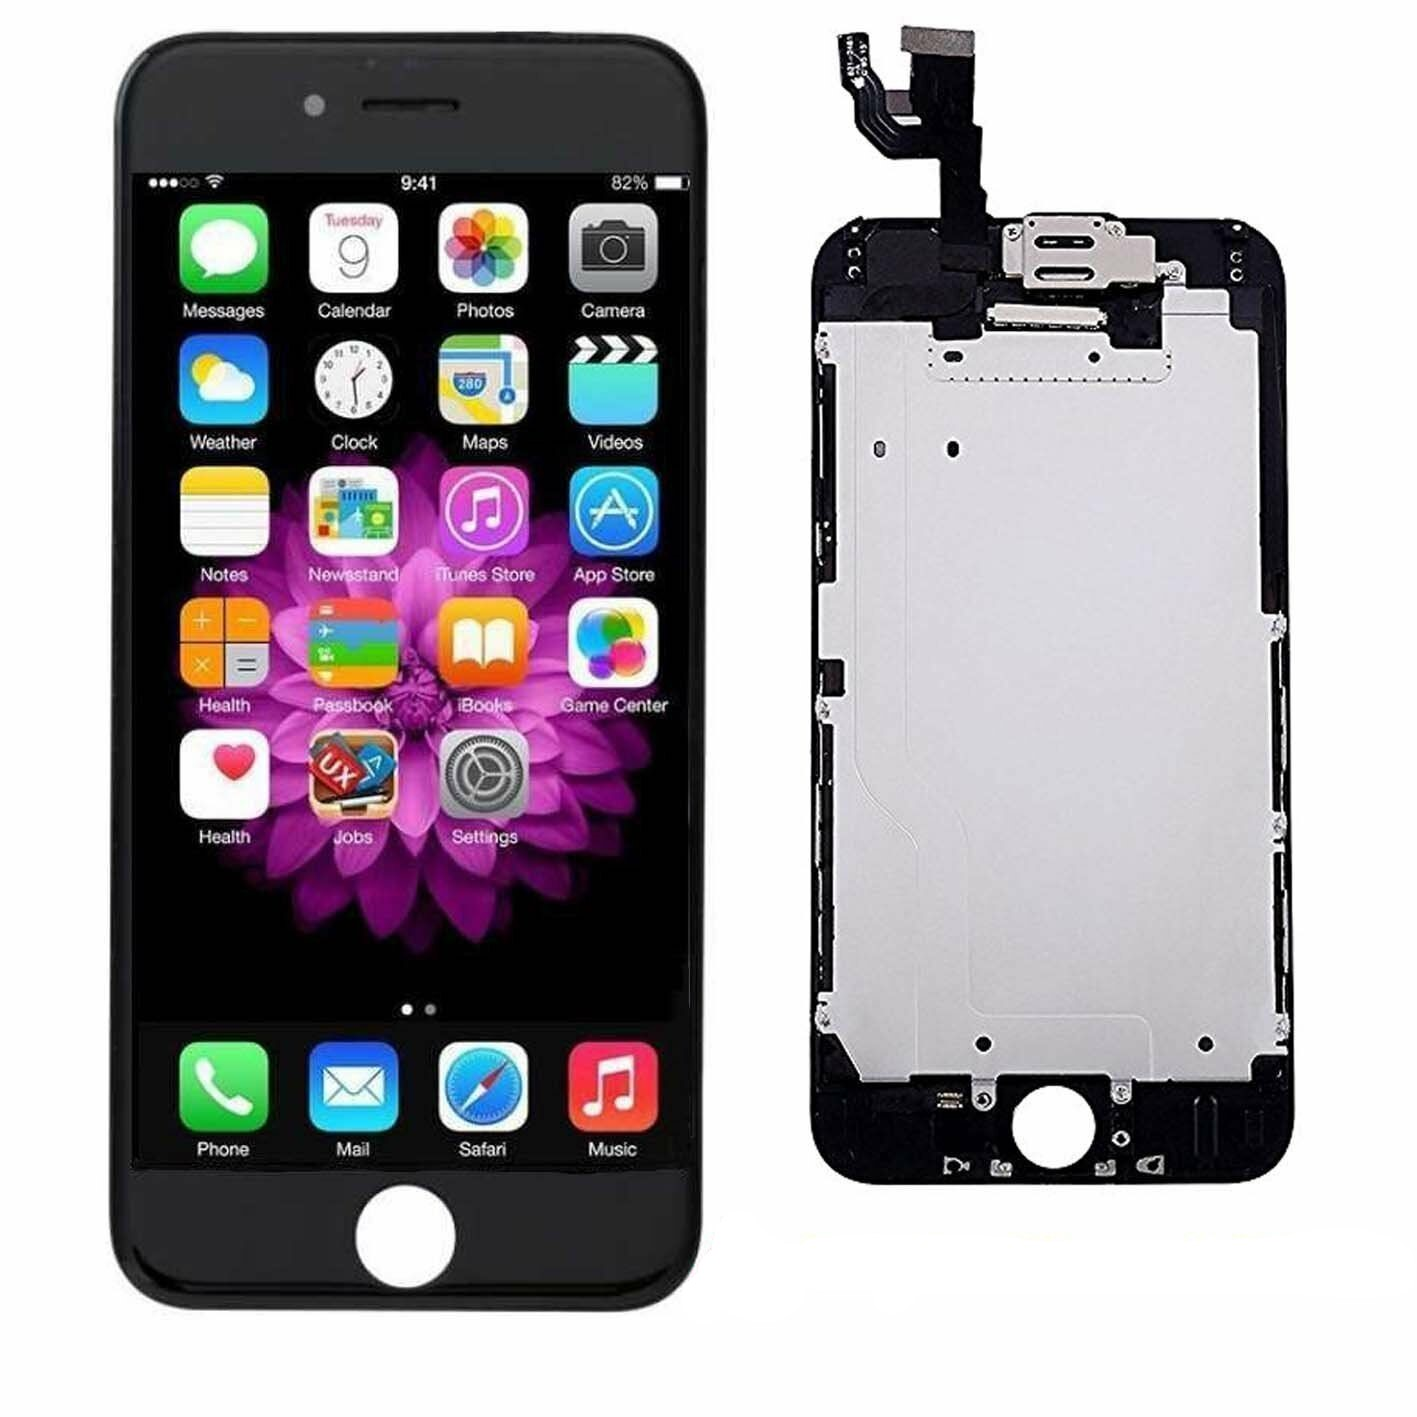Phone: (99, 26, 715, 1321), (801, 19, 1305, 1196)
